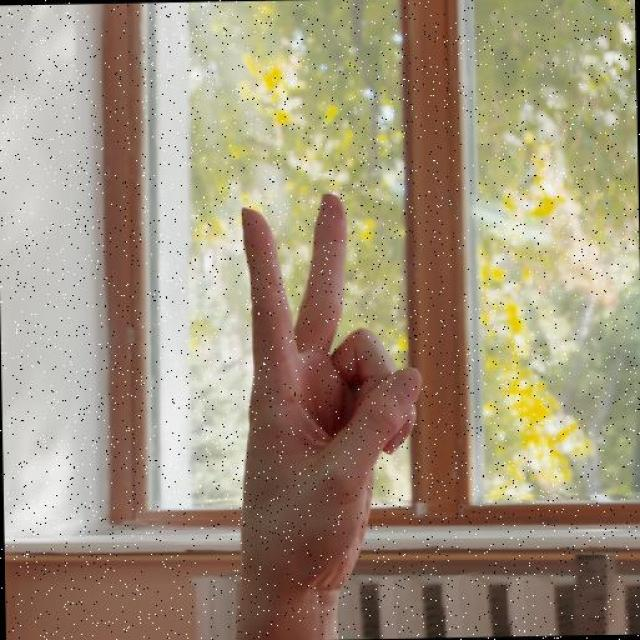V: (233, 188, 432, 598)
